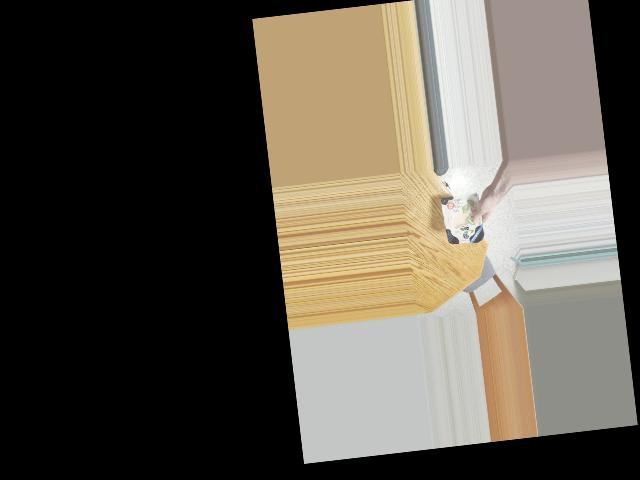cheese: (440, 181, 487, 257)
